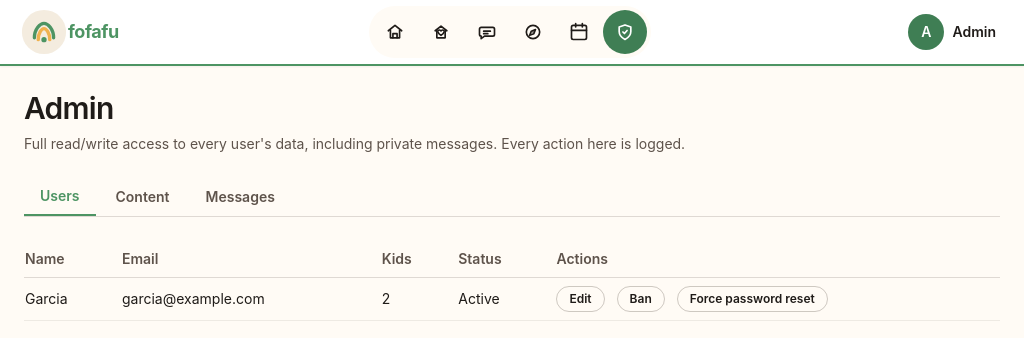
AdminPage › shows the Users view for an admin, and can ban a user
Expected: the heading "Admin" is shown, [24,90,114,126]
Expected: the text "Garcia" is shown, [24,278,121,320]
What coordinates should you click on to do the following:
click the button "Ban"
I would click on:
 (641, 299)
Its box is [617,286,665,312].
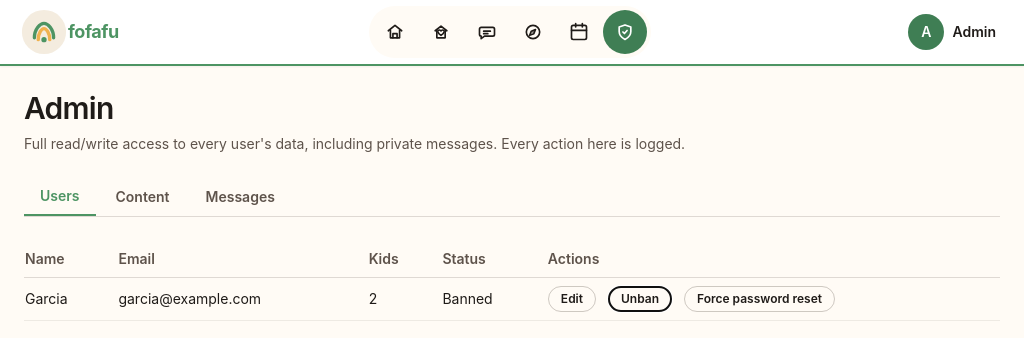
Now the button "Unban" is shown, box [608,286,672,312]
